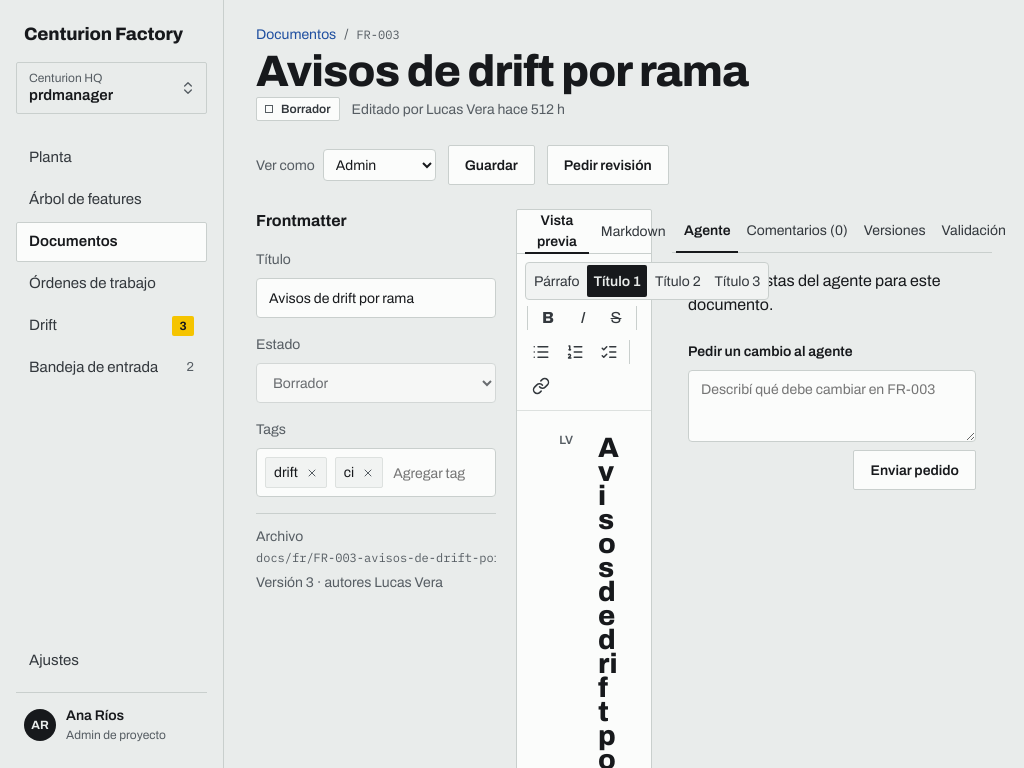
Test: WorkflowActions in_review, blocked by validation (FR-003 after review request) › disables Publicar with a helper message and still allows Volver a borrador
Expected: the text "Versión 3 · autores Lucas Vera" is shown, [256,575,443,590]
What coordinates should you click on to do the following:
click the button "Pedir revisión"
I would click on:
 (608, 165)
Its box is [547,145,669,185].
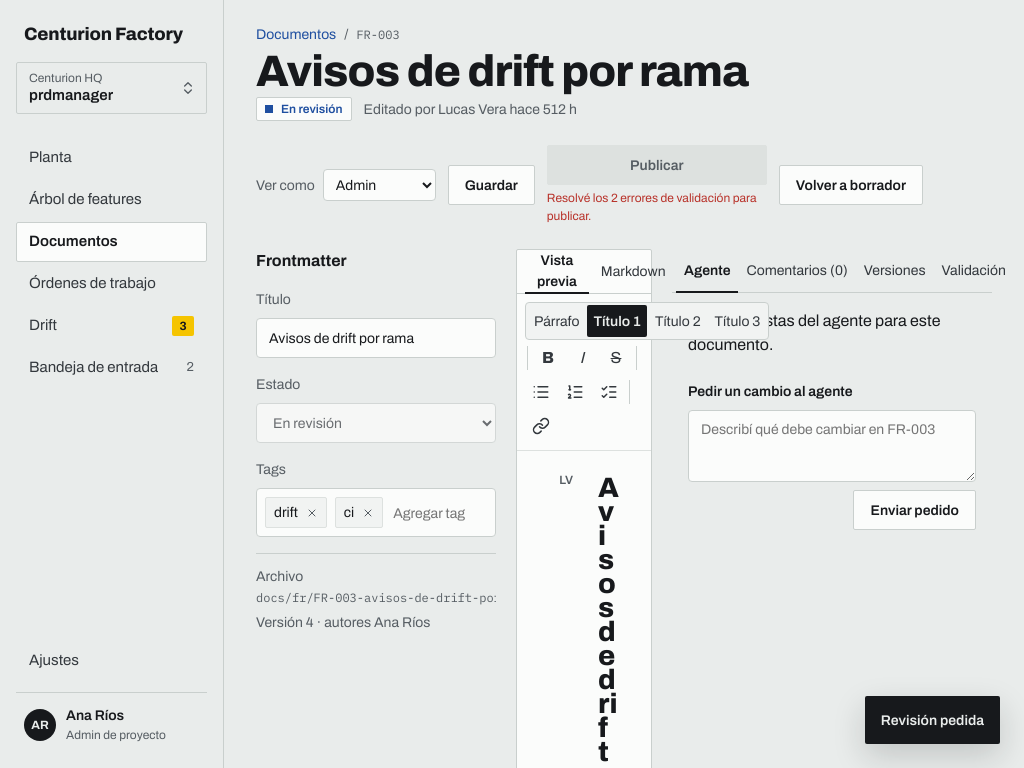
Expected: the message "Revisión pedida" is shown, [865,696,1000,744]
Expected: the button "Publicar" is disabled, [547,145,767,185]
Expected: the text "Resolvé los 2 errores de validación para publicar." is shown, [547,189,767,225]
What coordinates should you click on to do the following:
click the button "Volver a borrador"
I would click on:
 (851, 185)
Its box is [779,165,923,205].
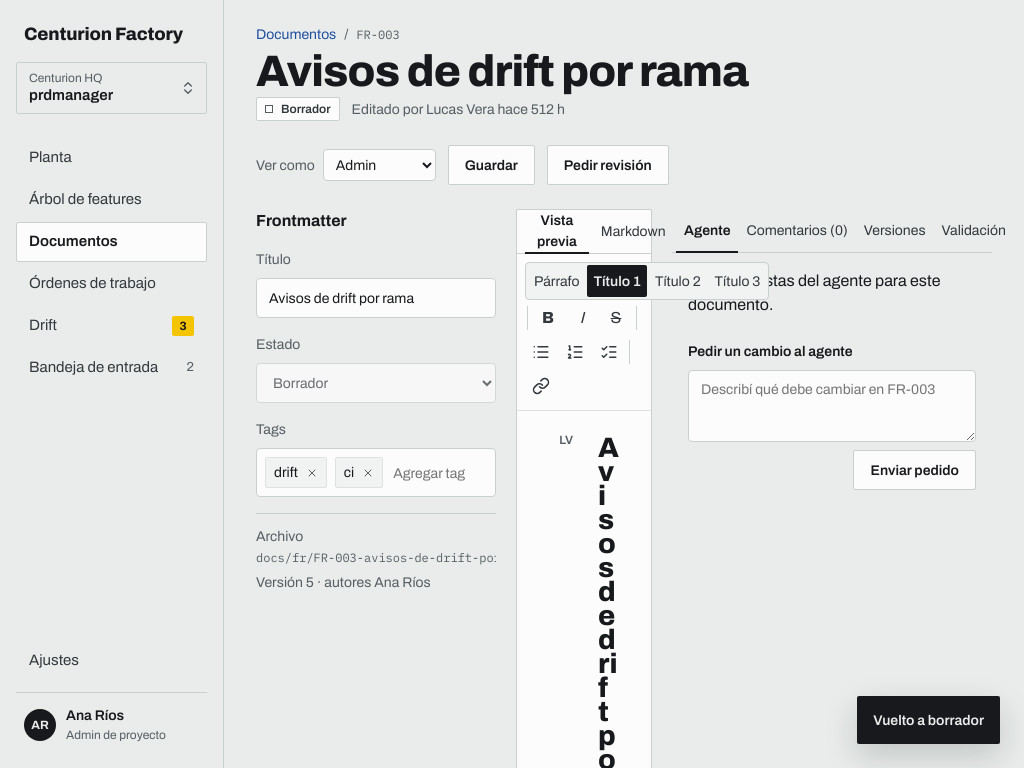
Expected: the text "Vuelto a borrador" is shown, [857,696,1000,744]
